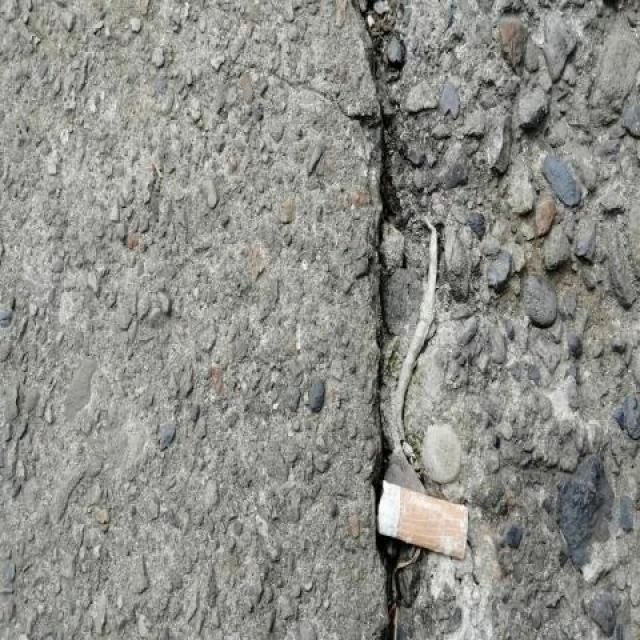non-organic waste: (374, 476, 470, 564)
